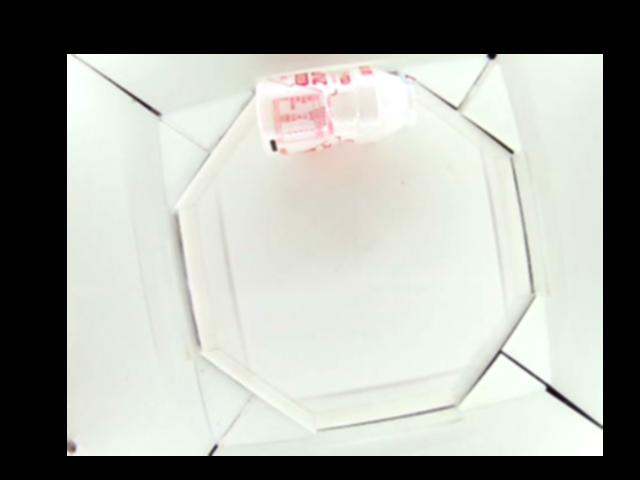Bottle: (253, 64, 419, 153)
